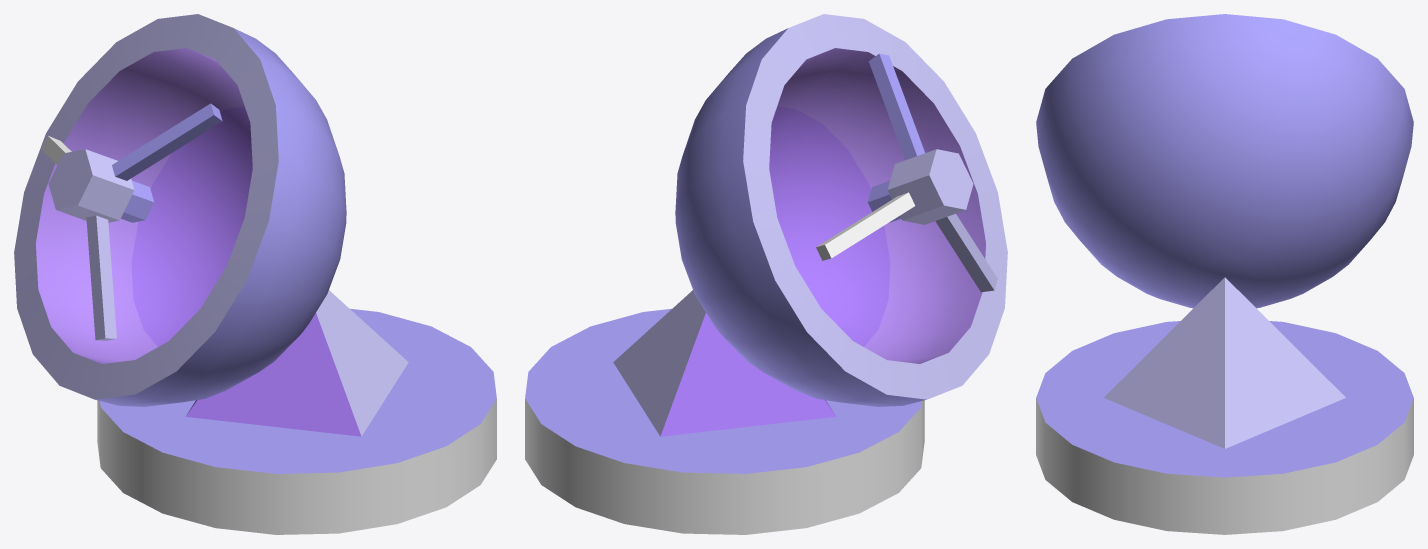
Rendered from Building_050.fbx.
The picture shows the model from 3 angles, left to right: view 1: azimuth 30°, elevation 25°; view 2: azimuth 150°, elevation 25°; view 3: azimuth 270°, elevation 25°; orthographic projection. The views are drawn at different scales.
Parts seen in each view (by area): view 1: polySurface1734, polySurface1737; view 2: polySurface1734, polySurface1737; view 3: polySurface1734, polySurface1737.
Part boxes in pixels (left/top/right/bottom): polySurface1734: left=14, top=14, right=346, bottom=406; polySurface1737: left=97, top=290, right=496, bottom=534; polySurface1734: left=675, top=14, right=1007, bottom=406; polySurface1737: left=525, top=290, right=924, bottom=534; polySurface1734: left=1036, top=14, right=1413, bottom=308; polySurface1737: left=1036, top=277, right=1413, bottom=534.
Bounding box in the file's own units: 7.16 × 7.22 × 6.
